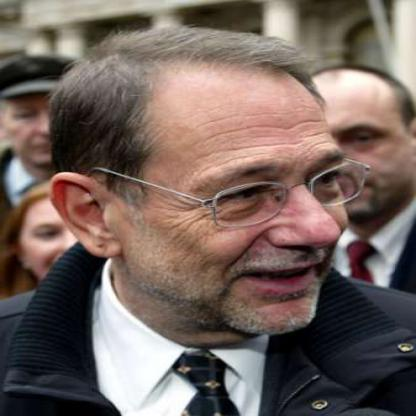face: (107, 42, 370, 345), (22, 185, 121, 292), (3, 64, 94, 165)
